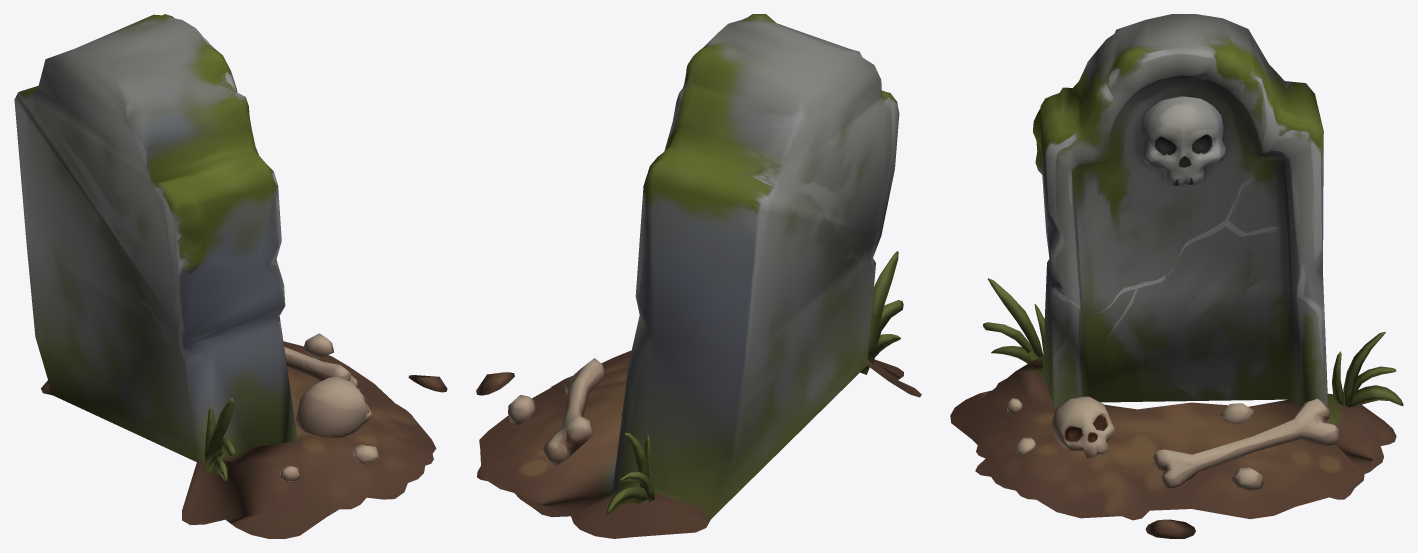
Rendered from tomb_tripo.glb.
The picture shows the model from 3 angles, left to right: view 1: azimuth 30°, elevation 25°; view 2: azimuth 150°, elevation 25°; view 3: azimuth 270°, elevation 25°; orthographic projection. The views are drawn at different scales.
Parts seen in each view (by area): view 1: tripo_node_d34f706c-fbce-41af-9be0-2da3d2aa5880; view 2: tripo_node_d34f706c-fbce-41af-9be0-2da3d2aa5880; view 3: tripo_node_d34f706c-fbce-41af-9be0-2da3d2aa5880.
Part boxes in pixels (left/top/right/bottom): tripo_node_d34f706c-fbce-41af-9be0-2da3d2aa5880: left=14, top=14, right=447, bottom=538; tripo_node_d34f706c-fbce-41af-9be0-2da3d2aa5880: left=476, top=14, right=921, bottom=538; tripo_node_d34f706c-fbce-41af-9be0-2da3d2aa5880: left=950, top=14, right=1403, bottom=538.
Bounding box in the file's own units: 0.8301 × 0.9395 × 0.998.
1 material, 1 textured.
